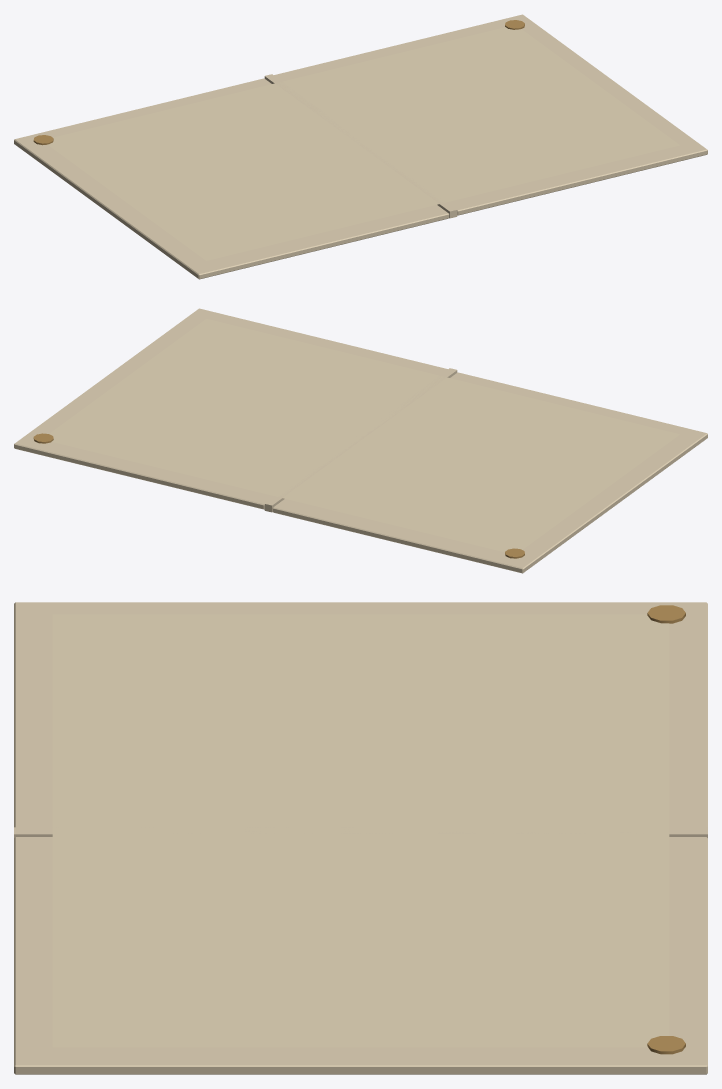
Rendered from floor_plan.glb.
3 renders of one model, top to bottom at view 1: azimuth 30°, elevation 25°; view 2: azimuth 150°, elevation 25°; view 3: azimuth 270°, elevation 25°, orthographic. The views are drawn at different scales.
Parts seen in each view (by area): view 1: floor_plan; view 2: floor_plan; view 3: floor_plan.
Boxes of the visible parts, bbox=[...] form: floor_plan: bbox=[14, 14, 707, 279]; floor_plan: bbox=[14, 308, 707, 573]; floor_plan: bbox=[14, 602, 707, 1074].
Size of the model in its own units: 0.2 by 0.0032 by 0.126.
